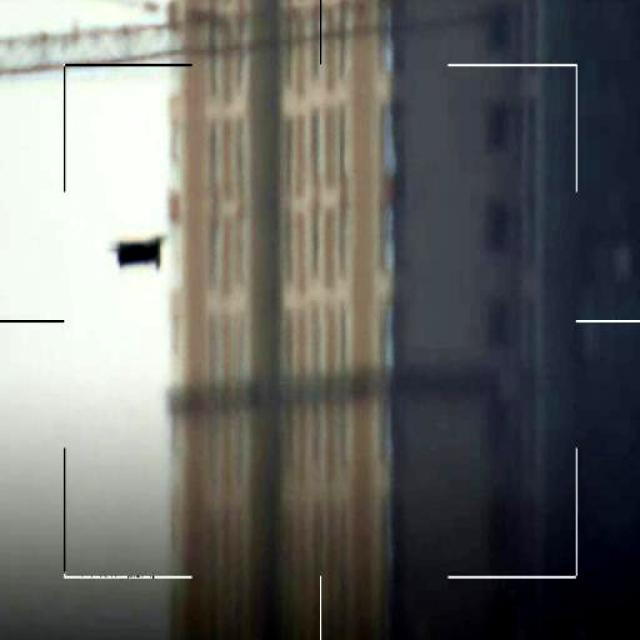bird: (118, 240, 170, 269)
